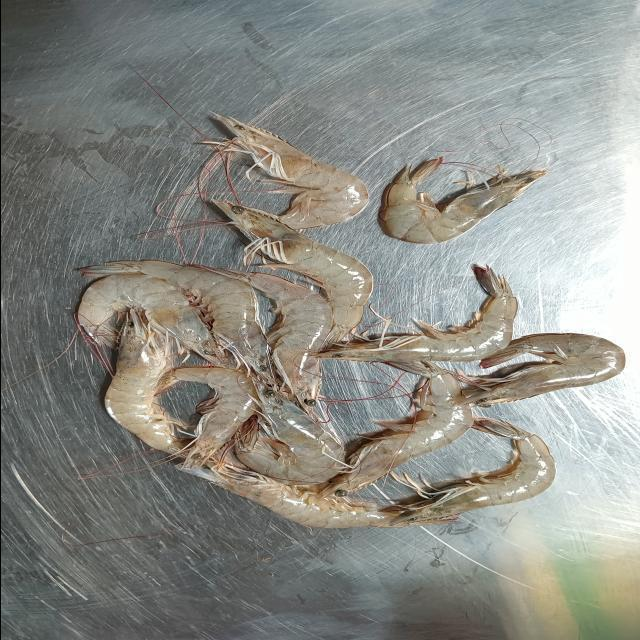shrimp: (80, 260, 273, 380), (211, 199, 372, 342), (319, 361, 472, 496), (317, 265, 516, 361), (202, 114, 368, 229), (182, 464, 463, 528), (206, 268, 332, 409), (392, 418, 554, 524), (379, 158, 547, 244), (78, 274, 228, 365), (452, 334, 625, 408), (104, 311, 184, 454), (233, 384, 346, 485), (157, 366, 257, 466)
